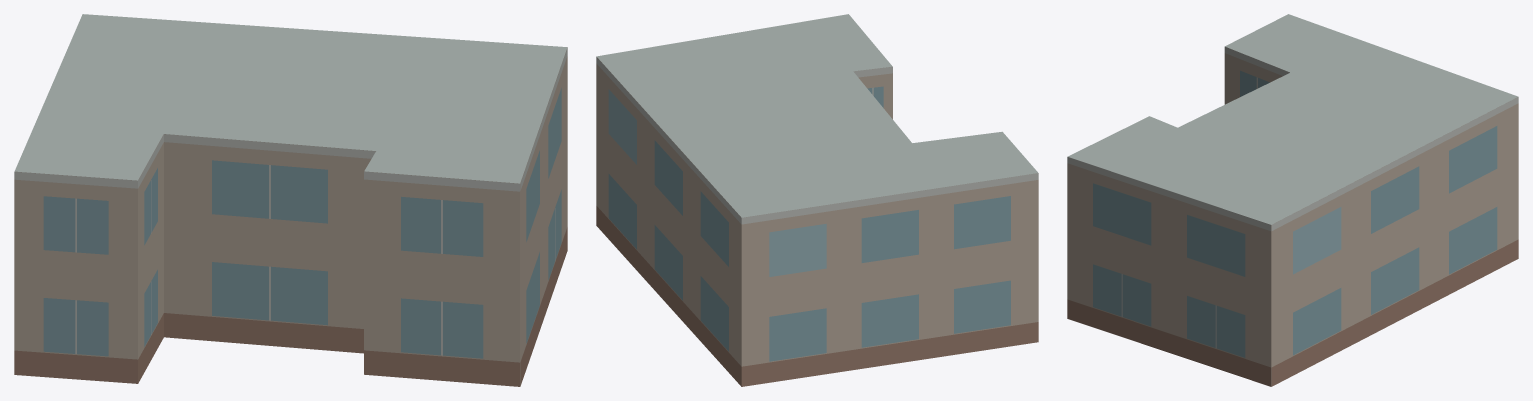
Rendered from survey-upis-32732197.glb.
3 renders of one model, left to right at view 1: azimuth 30°, elevation 25°; view 2: azimuth 150°, elevation 25°; view 3: azimuth 270°, elevation 25°, orthographic. The views are drawn at different scales.
Parts seen in each view (by area): view 1: survey-upis-32732197.tmp; view 2: survey-upis-32732197.tmp; view 3: survey-upis-32732197.tmp.
Part boxes in pixels (bbox=[...]): survey-upis-32732197.tmp: bbox=[14, 14, 567, 386]; survey-upis-32732197.tmp: bbox=[596, 14, 1038, 386]; survey-upis-32732197.tmp: bbox=[1067, 14, 1518, 386].
Size of the model in its own units: 17.04 by 6.1 by 15.41.
